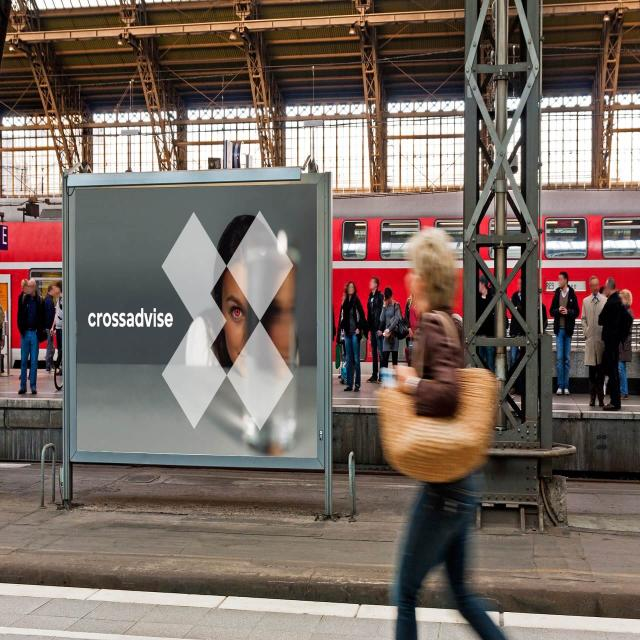Werbetafel frei: (60, 164, 336, 475)
